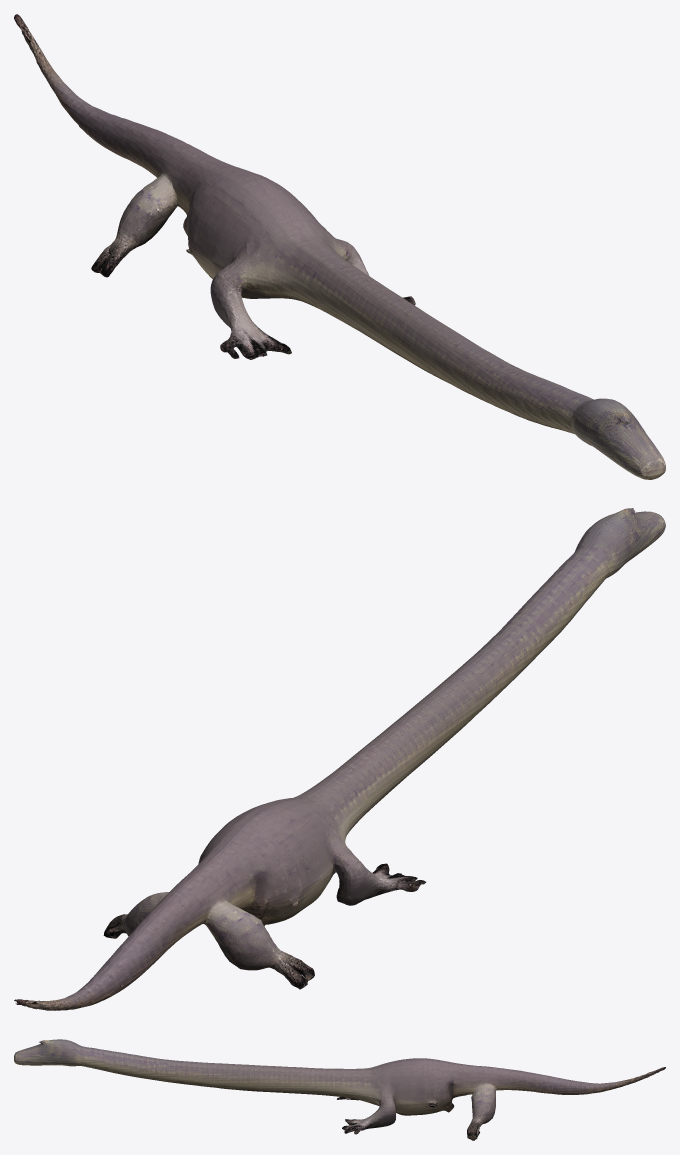
3 renders of one model, top to bottom at view 1: azimuth 30°, elevation 25°; view 2: azimuth 150°, elevation 25°; view 3: azimuth 270°, elevation 25°, orthographic. The views are drawn at different scales.
Visible parts, largest first — view 1: world; view 2: world; view 3: world.
Part boxes in pixels (bbox=[...]): world: bbox=[14, 14, 665, 479]; world: bbox=[14, 508, 665, 1010]; world: bbox=[14, 1039, 665, 1140].
Size of the model in its own units: 0.9331 by 0.6333 by 5.
1 material, 1 textured.
